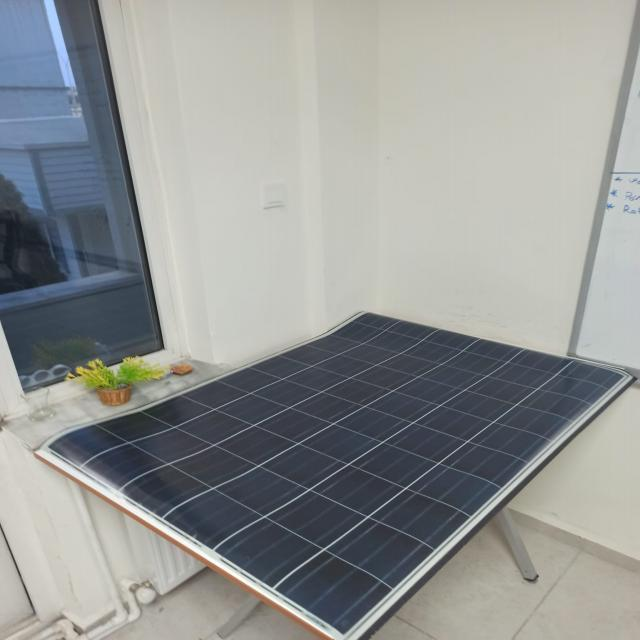no faulty: (38, 313, 640, 638)
